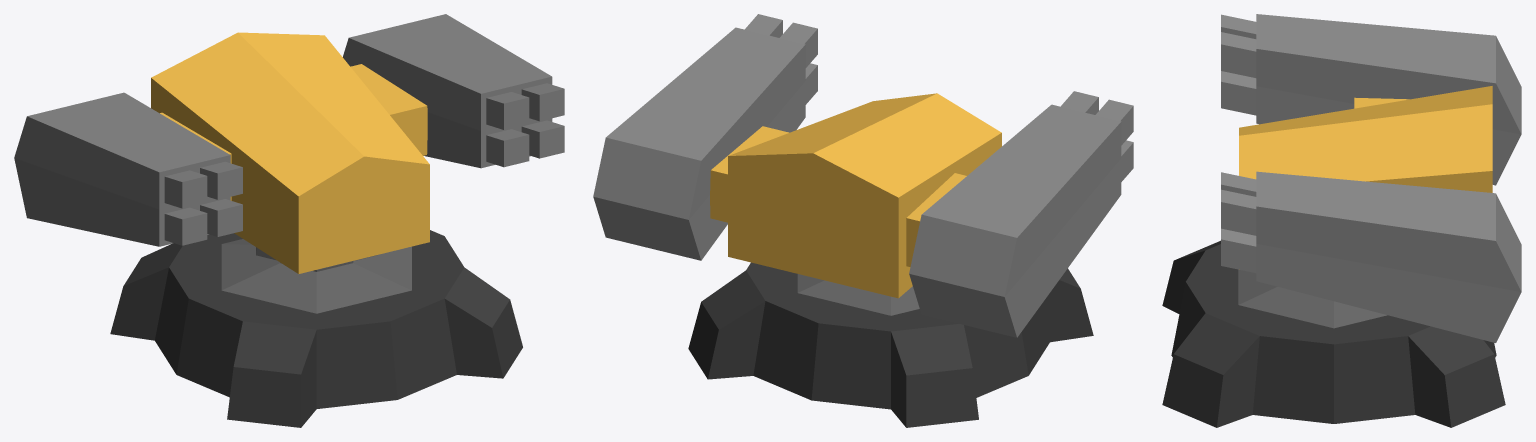
Rendered from Turrets_4.fbx.
3 views of the same model, side by side, from view 1: azimuth 30°, elevation 25°; view 2: azimuth 150°, elevation 25°; view 3: azimuth 270°, elevation 25° (orthographic). The views are drawn at different scales.
Parts seen in each view (by area): view 1: Turret_9.003, Turret_9.002, Turret_9.001; view 2: Turret_9.003, Turret_9.002, Turret_9.001; view 3: Turret_9.003, Turret_9.001, Turret_9.002.
Part boxes in pixels (box(x1,y1,x2,y2)): Turret_9.003: box(14, 14, 564, 313); Turret_9.002: box(151, 32, 429, 273); Turret_9.001: box(110, 230, 522, 427); Turret_9.003: box(593, 14, 1133, 337); Turret_9.002: box(710, 93, 1001, 298); Turret_9.001: box(688, 262, 1093, 427); Turret_9.003: box(1221, 14, 1521, 342); Turret_9.001: box(1162, 240, 1505, 427); Turret_9.002: box(1239, 86, 1492, 269).
Size of the model in its own units: 2.99 by 1.71 by 2.21.
